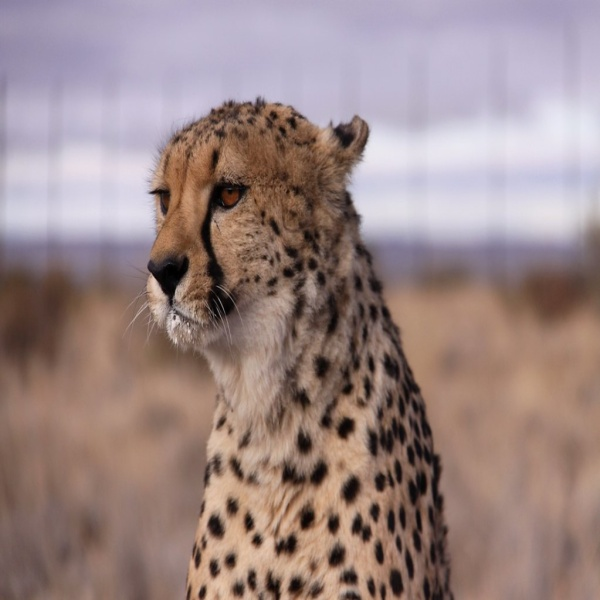Cheetah: (119, 94, 461, 600)
